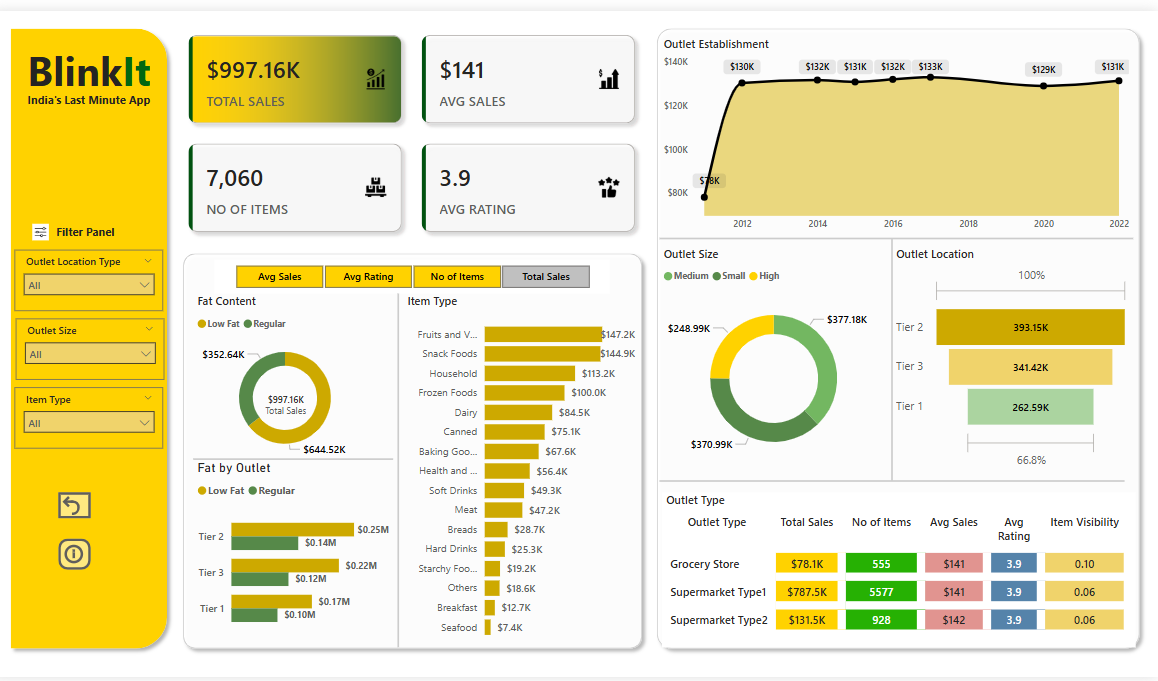

This screenshot's page, from the dashboard's own definition file:
{"tool":"powerbi","page":{"name":"Home","canvas":[1400,800],"ordinal":0},"visuals":[{"type":"shape","box":[13.5,12,205.6,762.4],"z":0},{"type":"textbox","box":[31.5,33,169.6,76.5],"z":1000},{"type":"textbox","box":[22.5,93.1,187.6,34.5],"z":2000},{"type":"cardVisual","fields":{"Data":["BlinkIT Grocery Data.Total Sales","BlinkIT Grocery Data.Avg Sales","BlinkIT Grocery Data.No of Items","BlinkIT Grocery Data.Avg Rating"]},"box":[219.1,12,570.3,270.2],"z":3000},{"type":"shape","box":[220.6,282.2,568.8,492.3],"z":4000},{"type":"donutChart","title":"Fat Content","fields":{"Y":["BlinkIT Grocery Data.Total Sales"],"Category":["BlinkIT Grocery Data.Item Fat Content"]},"box":[241.6,339.2,220.6,205.6],"z":5000},{"type":"slicer","fields":{"Values":["Metrics.Metrics"]},"box":[267.2,298.7,474.3,40.5],"z":6000},{"type":"cardVisual","fields":{"Data":["BlinkIT Grocery Data.Total Sales"]},"box":[304.7,442.8,96.1,55.5],"z":7000},{"type":"clusteredBarChart","title":"Fat by Outlet","fields":{"Y":["BlinkIT Grocery Data.Total Sales"],"Category":["BlinkIT Grocery Data.Outlet Location Type"],"Series":["BlinkIT Grocery Data.Item Fat Content"]},"box":[241.6,538.8,240.1,219.1],"z":8000},{"type":"shape","box":[241.6,525.3,240.1,25.5],"z":9000},{"type":"shape","box":[481.8,339.2,12,424.7],"z":10000},{"type":"barChart","title":"Item Type","fields":{"Y":["BlinkIT Grocery Data.Total Sales"],"Category":["BlinkIT Grocery Data.Item Type"]},"box":[493.8,339.2,283.7,424.7],"z":11000},{"type":"shape","box":[789.5,12,597.3,762.4],"z":12000},{"type":"lineChart","title":"Outlet Establishment","fields":{"Category":["BlinkIT Grocery Data.Outlet Establishment Year"],"Y":["BlinkIT Grocery Data.Total Sales"]},"box":[801.5,30,568.8,243.1],"z":13000},{"type":"shape","box":[801.5,259.6,568.8,27],"z":14000},{"type":"donutChart","title":"Outlet Size","fields":{"Y":["BlinkIT Grocery Data.Total Sales"],"Category":["BlinkIT Grocery Data.Outlet Size"]},"box":[801.5,282.2,274.7,273.2],"z":15000},{"type":"shape","box":[1074.6,273.2,12,291.2],"z":16000},{"type":"funnel","title":"Outlet Location","fields":{"Category":["BlinkIT Grocery Data.Outlet Location Type"],"Y":["Sum(BlinkIT Grocery Data.Sales)"]},"box":[1080.6,282.2,289.7,273.2],"z":17000},{"type":"shape","box":[801.5,550.8,558.3,27],"z":17001},{"type":"pivotTable","title":"Outlet Type","fields":{"Rows":["BlinkIT Grocery Data.Outlet Type"],"Values":["BlinkIT Grocery Data.Total Sales","BlinkIT Grocery Data.No of Items","BlinkIT Grocery Data.Avg Sales","BlinkIT Grocery Data.Avg Rating","Avg(BlinkIT Grocery Data.Item Visibility)"]},"box":[804.5,577.8,568.8,186.1],"z":17002},{"type":"slicer","fields":{"Values":["BlinkIT Grocery Data.Outlet Location Type"]},"box":[27,286.7,178.6,73.5],"z":17003},{"type":"slicer","fields":{"Values":["BlinkIT Grocery Data.Outlet Size"]},"box":[28.5,369.2,178.6,73.5],"z":17004},{"type":"slicer","fields":{"Values":["BlinkIT Grocery Data.Item Type"]},"box":[27,451.8,178.6,73.5],"z":17005},{"type":"textbox","box":[72,250.6,90.1,31.5],"z":17006},{"type":"image","box":[31.5,250.6,54,30],"z":17007},{"type":"actionButton","box":[79.5,633.4,39,37.5],"z":17009},{"type":"actionButton","box":[79.5,577.8,39,31.5],"z":17010}]}

Visuals, with their boxes in screenshot pixels (x1, y1, x2, y2), scaled from the page's 1400x800 canvas onto the 1158x681 screenshot:
shape: <bbox>11, 10, 181, 659</bbox>
textbox: <bbox>26, 28, 166, 93</bbox>
textbox: <bbox>19, 79, 174, 109</bbox>
cardVisual - BlinkIT Grocery Data.Total Sales x BlinkIT Grocery Data.Avg Sales: <bbox>181, 10, 653, 240</bbox>
shape: <bbox>182, 240, 653, 659</bbox>
"Fat Content" donutChart: <bbox>200, 289, 382, 464</bbox>
slicer - Metrics.Metrics: <bbox>221, 254, 613, 289</bbox>
cardVisual - BlinkIT Grocery Data.Total Sales: <bbox>252, 377, 332, 424</bbox>
"Fat by Outlet" clusteredBarChart: <bbox>200, 459, 398, 645</bbox>
shape: <bbox>200, 447, 398, 469</bbox>
shape: <bbox>399, 289, 408, 650</bbox>
"Item Type" barChart: <bbox>408, 289, 643, 650</bbox>
shape: <bbox>653, 10, 1147, 659</bbox>
"Outlet Establishment" lineChart: <bbox>663, 26, 1133, 232</bbox>
shape: <bbox>663, 221, 1133, 244</bbox>
"Outlet Size" donutChart: <bbox>663, 240, 890, 473</bbox>
shape: <bbox>889, 233, 899, 480</bbox>
"Outlet Location" funnel: <bbox>894, 240, 1133, 473</bbox>
shape: <bbox>663, 469, 1125, 492</bbox>
"Outlet Type" pivotTable: <bbox>665, 492, 1136, 650</bbox>
slicer - BlinkIT Grocery Data.Outlet Location Type: <bbox>22, 244, 170, 307</bbox>
slicer - BlinkIT Grocery Data.Outlet Size: <bbox>24, 314, 171, 377</bbox>
slicer - BlinkIT Grocery Data.Item Type: <bbox>22, 385, 170, 447</bbox>
textbox: <bbox>60, 213, 134, 240</bbox>
image: <bbox>26, 213, 71, 239</bbox>
actionButton: <bbox>66, 539, 98, 571</bbox>
actionButton: <bbox>66, 492, 98, 519</bbox>
